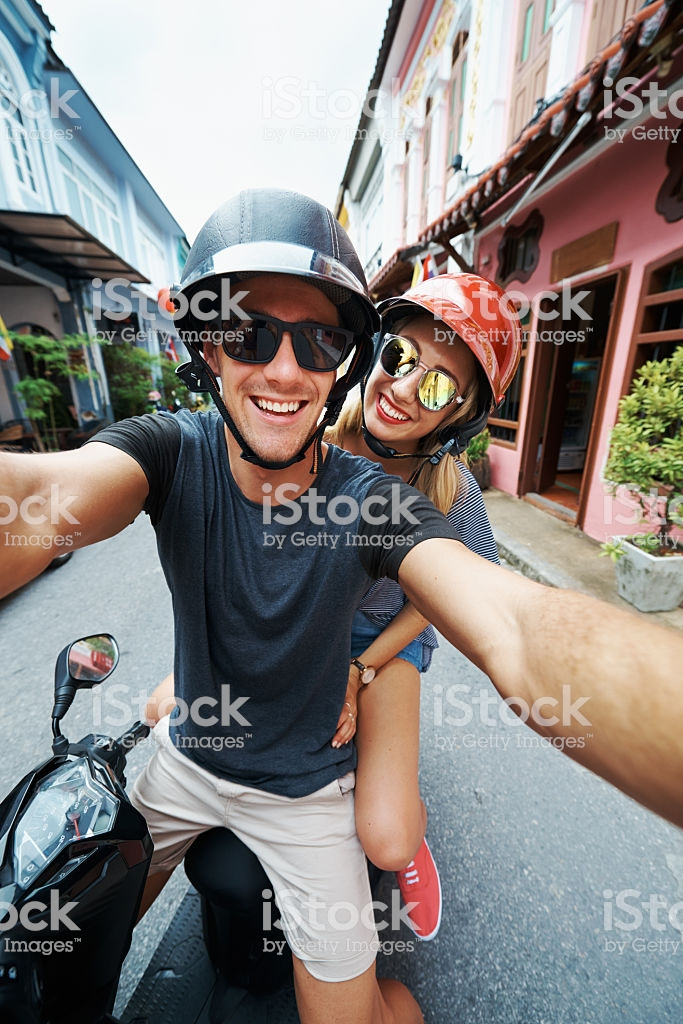helmet: (164, 193, 358, 321), (392, 270, 520, 406)
